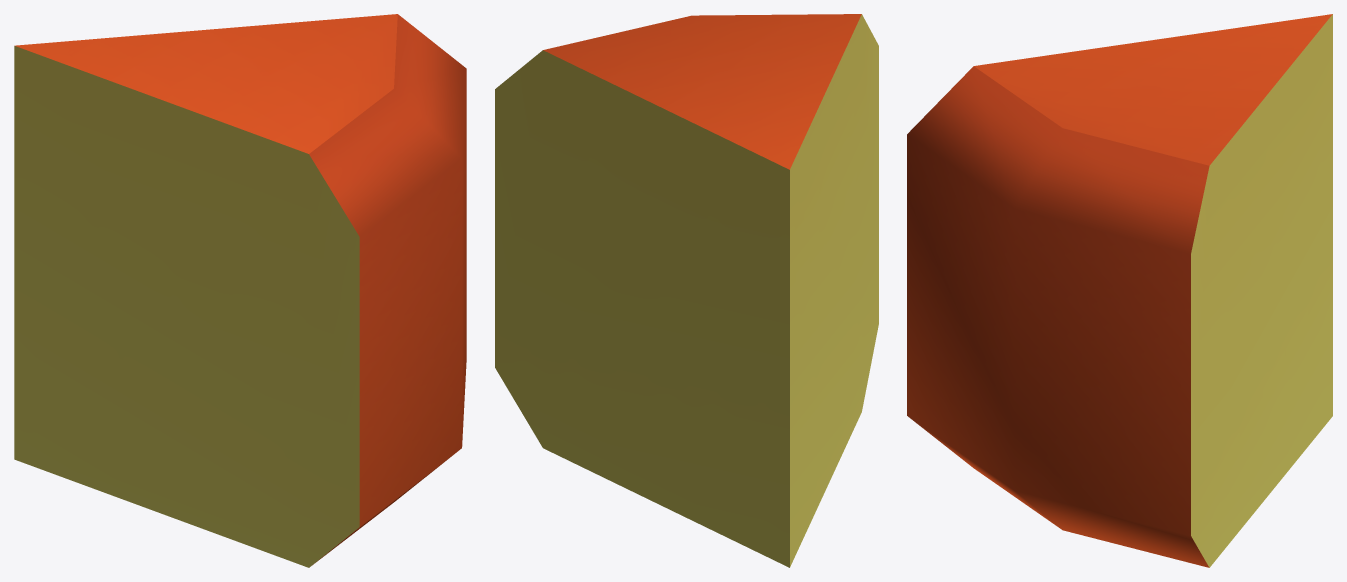
The model's file is cheese_slice_red.fbx.
3 views of the same model, side by side, from view 1: azimuth 30°, elevation 25°; view 2: azimuth 150°, elevation 25°; view 3: azimuth 270°, elevation 25° (orthographic). The views are drawn at different scales.
Visible parts, largest first — view 1: cheese_slice_red; view 2: cheese_slice_red; view 3: cheese_slice_red.
Boxes of the visible parts, bbox=[...] form: cheese_slice_red: bbox=[14, 14, 466, 567]; cheese_slice_red: bbox=[495, 14, 878, 567]; cheese_slice_red: bbox=[907, 14, 1332, 567].
Bounding box in the file's own units: 16.97 × 17.68 × 16.97.
